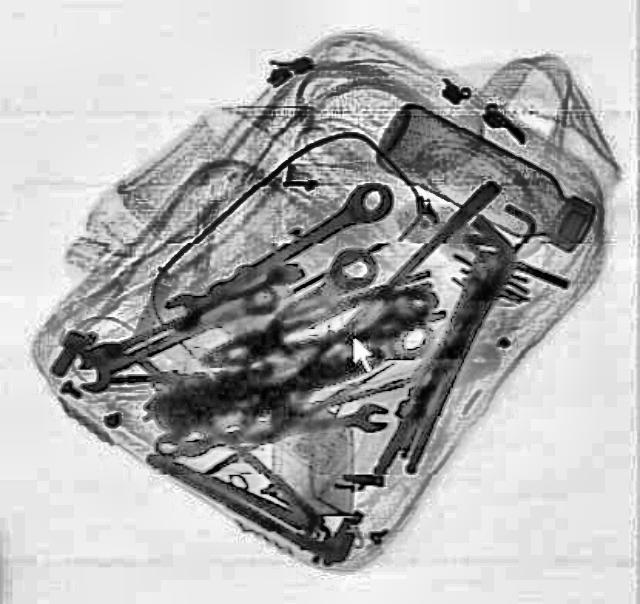Pliers: (188, 268, 446, 384)
Wrench: (154, 172, 400, 334), (67, 276, 283, 396), (150, 399, 392, 461)
